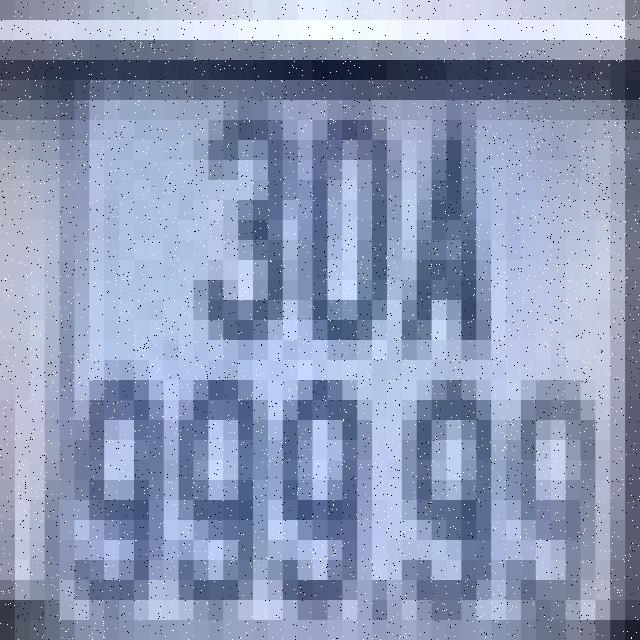0: (305, 100, 395, 340)
3: (193, 100, 283, 340)
9: (275, 370, 365, 610), (402, 380, 491, 620), (506, 380, 595, 620), (171, 380, 261, 600), (74, 380, 164, 600)
A: (394, 100, 498, 360)
